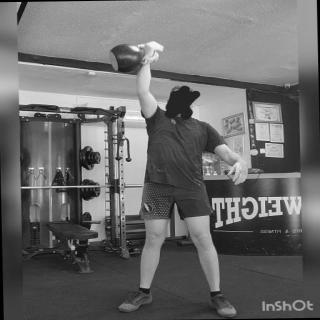kettlebell: (101, 37, 171, 77)
